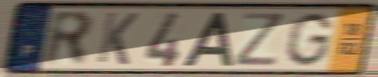4: (142, 9, 183, 69)
A: (181, 11, 235, 67)
G: (282, 11, 336, 68)
K: (94, 11, 141, 68)
R: (41, 9, 95, 68)
Z: (231, 11, 287, 68)
